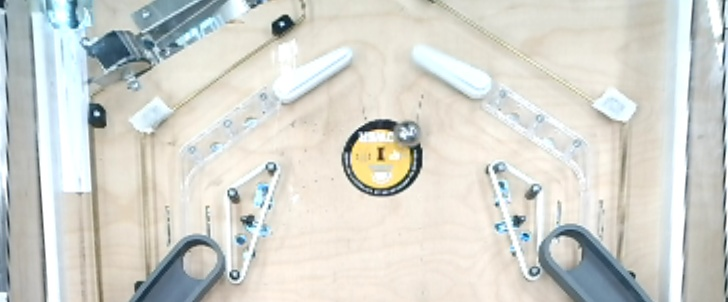ball: (390, 118, 423, 150)
flipper-left: (407, 39, 495, 102)
flipper-right: (269, 42, 355, 107)
